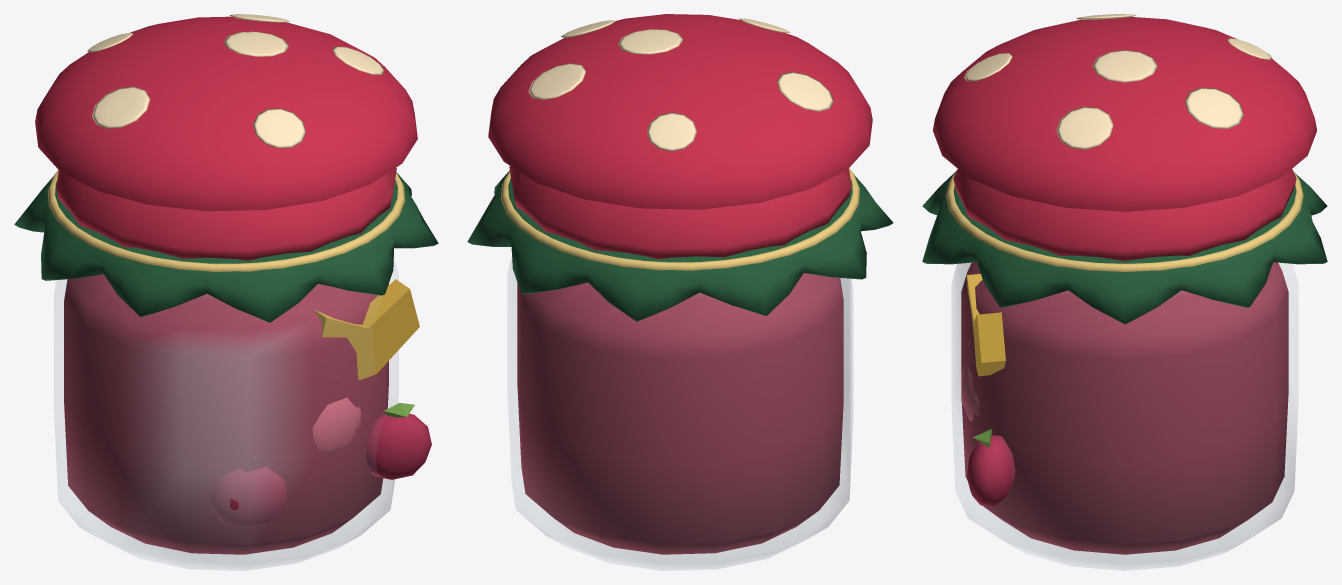
The model's file is Turtle_Bait.glb.
3 renders of one model, left to right at view 1: azimuth 30°, elevation 25°; view 2: azimuth 150°, elevation 25°; view 3: azimuth 270°, elevation 25°, orthographic.
Parts seen in each view (by area): view 1: JAR_Jelly, Turtle Bait, JAR_Glass, JAR_Paper, JAR_Lid, OceanGoldfishTail, JAR_Twine, OceanBerry_A, OceanBerry_C, OceanBerry_B; view 2: JAR_Jelly, Turtle Bait, JAR_Glass, JAR_Paper, JAR_Lid, JAR_Twine; view 3: JAR_Jelly, Turtle Bait, JAR_Glass, JAR_Paper, JAR_Lid, JAR_Twine, OceanBerry_C, OceanGoldfishTail, OceanBerry_B.
Part boxes in pixels (x1,y1,x2,y2): JAR_Jelly: (64,274,388,554); Turtle Bait: (35,14,417,211); JAR_Glass: (54,259,398,570); JAR_Paper: (14,172,438,322); JAR_Lid: (56,168,396,260); OceanGoldfishTail: (314,279,419,379); JAR_Twine: (47,170,405,271); OceanBerry_A: (211,467,286,525); OceanBerry_C: (366,413,431,479); OceanBerry_B: (312,397,360,455); JAR_Jelly: (517,273,843,554); Turtle Bait: (488,14,872,209); JAR_Glass: (508,258,853,570); JAR_Paper: (467,170,893,321); JAR_Lid: (509,166,851,259); JAR_Twine: (501,168,859,270); JAR_Jelly: (961,262,1288,554); Turtle Bait: (933,14,1316,211); JAR_Glass: (952,262,1297,570); JAR_Paper: (922,170,1327,324); JAR_Lid: (953,169,1296,260); JAR_Twine: (946,171,1303,271); OceanBerry_C: (967,435,1015,506); OceanGoldfishTail: (967,274,1005,376); OceanBerry_B: (961,363,979,420).
Bounding box in the file's own units: 1.06 × 1.26 × 1.
